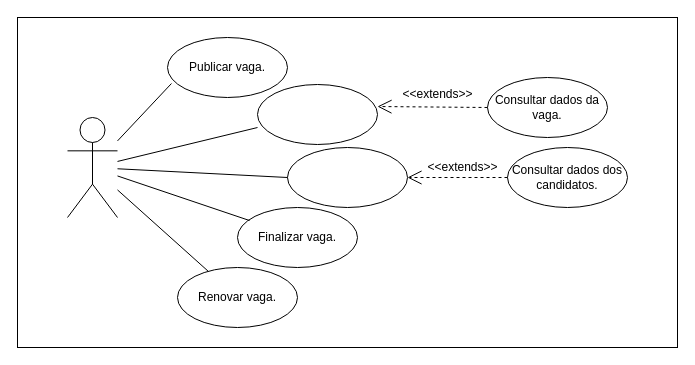
Some shapes in this 695 by 365 pixel diagram are drawn without their labels. Here are the shapes that lost their labels. From the top down, the centre of each, then its label:
At [317,114]: "Consultar lista de vagas publicadas.".
At [92,167]: "Empresa".
At [347,177]: "Consultar ranking dos candidatos.".
